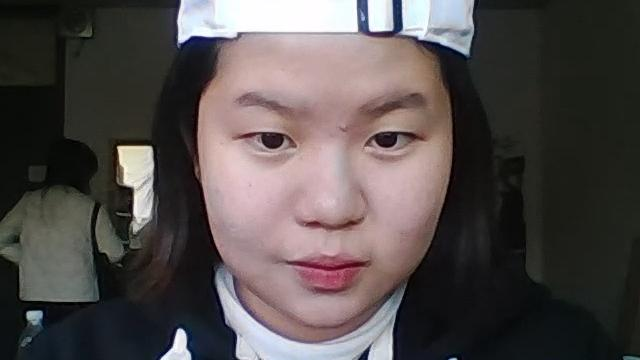eye: (262, 128, 284, 148), (375, 129, 395, 147)
iris: (365, 132, 417, 151), (248, 133, 298, 151)
